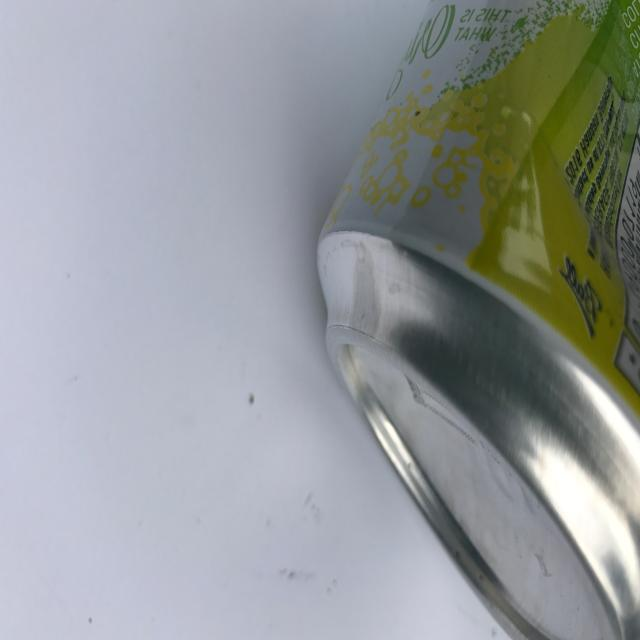metal: (316, 0, 640, 640)
